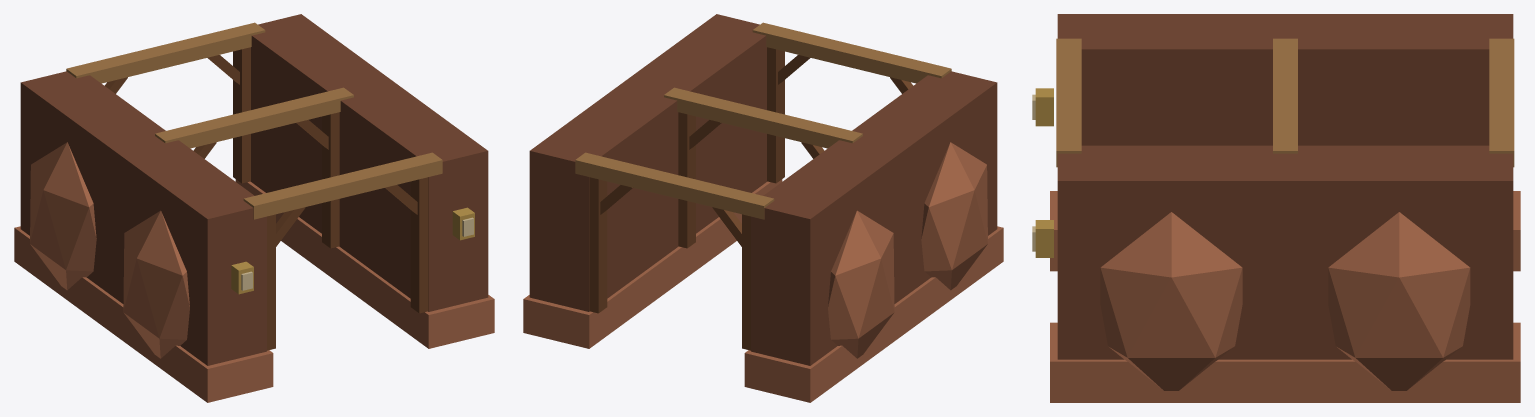
Rendered from Desert_MinePassage_Standard.glb.
3 renders of one model, left to right at view 1: azimuth 30°, elevation 25°; view 2: azimuth 150°, elevation 25°; view 3: azimuth 270°, elevation 25°, orthographic. The views are drawn at different scales.
Parts seen in each view (by area): view 1: Desert_MinePassage_Standard; view 2: Desert_MinePassage_Standard; view 3: Desert_MinePassage_Standard.
Part boxes in pixels (x1,y1,x2,y2): Desert_MinePassage_Standard: [14, 14, 494, 402]; Desert_MinePassage_Standard: [523, 14, 1003, 402]; Desert_MinePassage_Standard: [1032, 14, 1520, 402].
Size of the model in its own units: 6.09 by 3.24 by 6.43.
